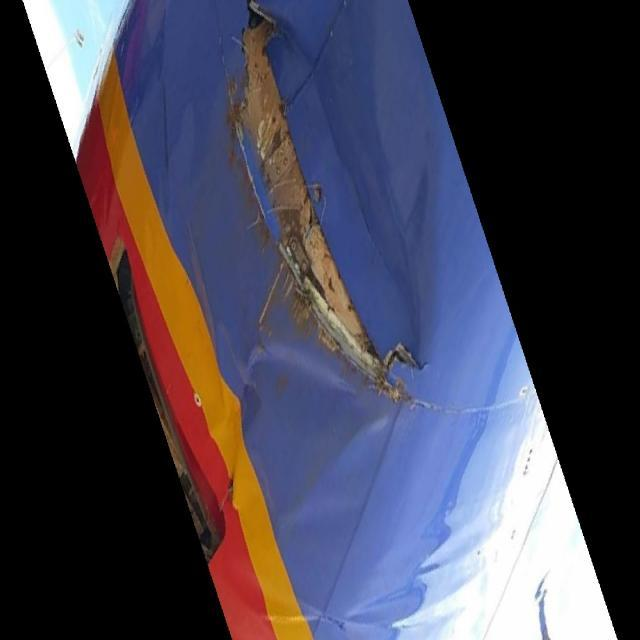crack: (221, 3, 433, 421)
